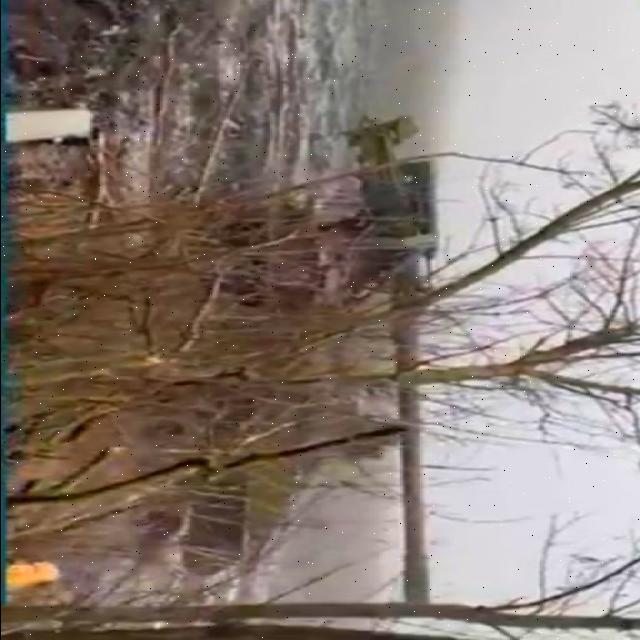ART: (152, 117, 456, 612)
